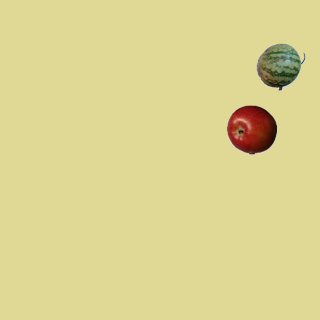Apple Braeburn: (226, 104, 276, 154)
Watermelon: (255, 41, 305, 91)
